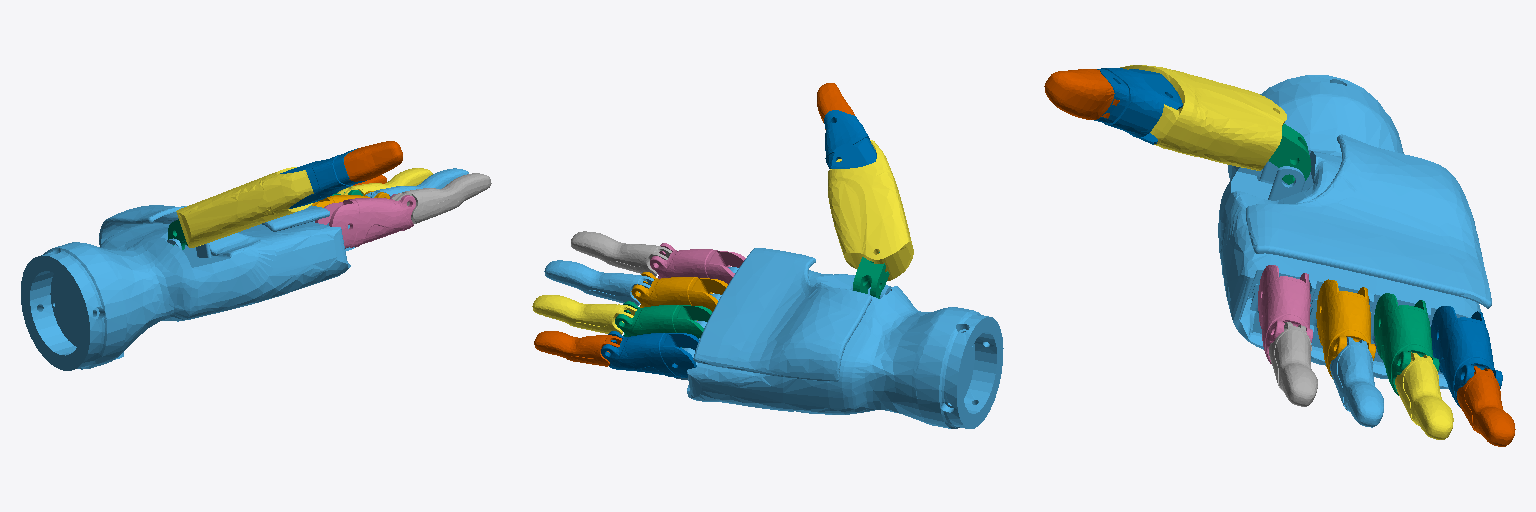
URDF robot description (inspire_hand_right):
<robot name="inspire_hand_right">
  <link name="base" />
  <joint name="base_joint" type="fixed">
    <parent link="base" />
    <child link="hand_base_link" />
    
    
    
    <origin xyz="-0.05 0.01 0" rpy="3.13841 1.26841 -1.47159" />
  </joint>
  <link name="hand_base_link">
    <parent link="base" />
    <inertial>
      <origin xyz="-0.0025264 -0.066047 0.0019598" rpy="0 0 0" />
      <mass value="0.14143" />
      <inertia ixx="0.00012281" ixy="2.1711E-06" ixz="1.7709E-06" iyy="8.3832E-05" iyz="-1.6551E-06" izz="7.6663E-05" />
    </inertial>
    <visual>
      <origin xyz="0 0 0" rpy="0 0 0" />
      <geometry>
        <mesh filename="meshes/visual/right_base_link.obj" />
      </geometry>
    </visual>
    <collision>
      <origin xyz="0 -0.0136 0" rpy="1.57079 0 0" />
      <geometry>
        <cylinder length="0.0278" radius="0.028" />
      </geometry>
    </collision>
    <collision>
      <origin xyz="-0.0032 -0.038 0" rpy="0 0 0" />
      <geometry>
        <box size="0.0391 0.0202 0.0574" />
      </geometry>
    </collision>
    <collision>
      <origin xyz="-0.0032 -0.0682 0" rpy="0 0 0" />
      <geometry>
        <box size="0.0391 0.04 0.0814" />
      </geometry>
    </collision>
    <collision>
      <origin xyz="0 -0.1081 0" rpy="0 0 0" />
      <geometry>
        <box size="0.0322 0.04 0.0814" />
      </geometry>
    </collision>
    <collision>
      <origin xyz="-0.0016 -0.1340 0.0309" rpy="0 0 0" />
      <geometry>
        <box size="0.0125 0.0111 0.0089" />
      </geometry>
    </collision>
    <collision>
      <origin xyz="-0.0016 -0.1340 0.0118" rpy="0 0 0" />
      <geometry>
        <box size="0.0125 0.0111 0.0089" />
      </geometry>
    </collision>
    <collision>
      <origin xyz="-0.0016 -0.1340 -0.0070" rpy="0 0 0" />
      <geometry>
        <box size="0.0125 0.0111 0.0089" />
      </geometry>
    </collision>
    <collision>
      <origin xyz="-0.0016 -0.1340 -0.0262" rpy="0 0 0" />
      <geometry>
        <box size="0.0125 0.0111 0.0089" />
      </geometry>
    </collision>
  </link>
  <link name="thumb_proximal_base">
    <inertial>
      <origin xyz="-0.0048064 0.0009382 -0.00757" rpy="0 0 0" />
      <mass value="0.0018869" />
      <inertia ixx="5.816E-08" ixy="1.4539E-08" ixz="4.491E-09" iyy="7.9161E-08" iyz="-1.8727E-09" izz="6.7433E-08" />
    </inertial>
    <visual>
      <origin xyz="0 0 0" rpy="0 0 0" />
      <geometry>
        <mesh filename="meshes/visual/right_thumb_proximal_base.obj" />
      </geometry>
    </visual>
    <collision>
      <origin xyz="0 0 0" rpy="0 0 0" />
      <geometry>
        <mesh filename="meshes/collision/right_thumb_proximal_base.obj" />
      </geometry>
    </collision>
  </link>
  <joint name="thumb_proximal_yaw_joint" type="revolute">
    <origin xyz="-0.01696 -0.0691 -0.02045" rpy="1.5708 -1.5708 0" />
    <parent link="hand_base_link" />
    <child link="thumb_proximal_base" />
    <axis xyz="0 0 -1" />
    <limit lower="0.0" upper="1.308" effort="1" velocity="0.5" />
  </joint>
  <link name="thumb_proximal">
    <inertial>
      <origin xyz="0.021932 0.012785 -0.0080386" rpy="0 0 0" />
      <mass value="0.0066075" />
      <inertia ixx="1.5686E-06" ixy="-7.8296E-07" ixz="8.9143E-10" iyy="1.7353E-06" iyz="-1.0191E-09" izz="2.786E-06" />
    </inertial>
    <visual>
      <origin xyz="0 0 0" rpy="0 0 0" />
      <geometry>
        <mesh filename="meshes/visual/right_thumb_proximal.obj" />
      </geometry>
    </visual>
    <collision>
      <origin xyz="0 0 0" rpy="0 0 0" />
      <geometry>
        <mesh filename="meshes/collision/right_thumb_proximal.obj" />
      </geometry>
    </collision>
  </link>
  <joint name="thumb_proximal_pitch_joint" type="revolute">
    <origin xyz="-0.0088099 0.010892 -0.00925" rpy="1.5708 0 2.8587" />
    <parent link="thumb_proximal_base" />
    <child link="thumb_proximal" />
    <axis xyz="0 0 1" />
    <limit lower="0" upper="0.6" effort="1" velocity="0.5" />
  </joint>
  <link name="thumb_intermediate">
    <inertial>
      <origin xyz="0.0095544 -0.0016282 -0.0071997" rpy="0 0 0" />
      <mass value="0.0037847" />
      <inertia ixx="3.6981E-07" ixy="-9.8581E-08" ixz="-4.7469E-12" iyy="3.2394E-07" iyz="1.0939E-12" izz="4.6531E-07" />
    </inertial>
    <visual>
      <origin xyz="0 0 0" rpy="0 0 0" />
      <geometry>
        <mesh filename="meshes/visual/right_thumb_intermediate.obj" />
      </geometry>
    </visual>
    <collision>
      <origin xyz="0 0 0" rpy="0 0 0" />
      <geometry>
        <mesh filename="meshes/collision/right_thumb_intermediate.obj" />
      </geometry>
    </collision>
  </link>
  <joint name="thumb_intermediate_joint" type="revolute">
    <origin xyz="0.04407 0.034553 -0.0008" rpy="0 0 0" />
    <parent link="thumb_proximal" />
    <child link="thumb_intermediate" />
    <axis xyz="0 0 1" />
    <limit lower="0" upper="0.8" effort="1" velocity="0.5" />
    <mimic joint="thumb_proximal_pitch_joint" multiplier="1.334" offset="0" />
  </joint>
  <link name="thumb_distal">
    <inertial>
      <origin xyz="0.0092888 0.0049529 -0.0060033" rpy="0 0 0" />
      <mass value="0.0033441" />
      <inertia ixx="1.3632E-07" ixy="-5.6788E-08" ixz="-9.2764E-11" iyy="1.4052E-07" iyz="-1.2283E-10" izz="2.0026E-07" />
    </inertial>
    <visual>
      <origin xyz="0 0 0" rpy="0 0 0" />
      <geometry>
        <mesh filename="meshes/visual/right_thumb_distal.obj" />
      </geometry>
    </visual>
    <collision>
      <origin xyz="0 0 0" rpy="0 0 0" />
      <geometry>
        <mesh filename="meshes/collision/right_thumb_distal.obj" />
      </geometry>
    </collision>
  </link>
  <joint name="thumb_distal_joint" type="revolute">
    <origin xyz="0.020248 0.010156 -0.0012" rpy="0 0 0" />
    <parent link="thumb_intermediate" />
    <child link="thumb_distal" />
    <axis xyz="0 0 1" />
    <limit lower="0" upper="0.4" effort="1" velocity="0.5" />
    <mimic joint="thumb_proximal_pitch_joint" multiplier="0.667" offset="0" />
  </joint>
  <link name="index_proximal">
    <inertial>
      <origin xyz="0.0012259 0.011942 -0.0060001" rpy="0 0 0" />
      <mass value="0.0042403" />
      <inertia ixx="6.6232E-07" ixy="-1.5775E-08" ixz="1.8515E-12" iyy="2.1146E-07" iyz="-5.0828E-12" izz="6.9398E-07" />
    </inertial>
    <visual>
      <origin xyz="0 0 0" rpy="0 0 0" />
      <geometry>
        <mesh filename="meshes/visual/right_index_proximal.obj" />
      </geometry>
    </visual>
    <collision>
      <origin xyz="0 0 0" rpy="0 0 0" />
      <geometry>
        <mesh filename="meshes/collision/right_index_proximal.obj" />
      </geometry>
    </collision>
  </link>
  <joint name="index_proximal_joint" type="revolute">
    <origin xyz="0.00028533 -0.13653 -0.032268" rpy="-3.1067 0 0" />
    <parent link="hand_base_link" />
    <child link="index_proximal" />
    <axis xyz="0 0 1" />
    <limit lower="0" upper="1.47" effort="1" velocity="0.5" />
  </joint>
  <link name="index_intermediate">
    <inertial>
      <origin xyz="0.0019697 0.019589 -0.005" rpy="0 0 0" />
      <mass value="0.0045683" />
      <inertia ixx="7.6111E-07" ixy="8.7637E-08" ixz="-3.7751E-13" iyy="9.6076E-08" iyz="9.9444E-13" izz="7.8179E-07" />
    </inertial>
    <visual>
      <origin xyz="0 0 0" rpy="0 0 0" />
      <geometry>
        <mesh filename="meshes/visual/right_index_intermediate.obj" />
      </geometry>
    </visual>
    <collision>
      <origin xyz="0 0 0" rpy="0 0 0" />
      <geometry>
        <mesh filename="meshes/collision/right_index_intermediate.obj" />
      </geometry>
    </collision>
  </link>
  <joint name="index_intermediate_joint" type="revolute">
    <origin xyz="-0.0026138 0.032026 -0.001" rpy="0 0 0" />
    <parent link="index_proximal" />
    <child link="index_intermediate" />
    <axis xyz="0 0 1" />
    <limit lower="-0.04545" upper="1.56" effort="1" velocity="0.5" />
    <mimic joint="index_proximal_joint" multiplier="1.06399" offset="-0.04545" />
  </joint>
  <link name="middle_proximal">
    <inertial>
      <origin xyz="0.001297 0.011934 -0.0060001" rpy="0 0 0" />
      <mass value="0.0042403" />
      <inertia ixx="6.6211E-07" ixy="-1.8461E-08" ixz="1.8002E-12" iyy="2.1167E-07" iyz="-6.6808E-12" izz="6.9397E-07" />
    </inertial>
    <visual>
      <origin xyz="0 0 0" rpy="0 0 0" />
      <geometry>
        <mesh filename="meshes/visual/right_index_proximal.obj" />
      </geometry>
    </visual>
    <collision>
      <origin xyz="0 0 0" rpy="0 0 0" />
      <geometry>
        <mesh filename="meshes/collision/right_index_proximal.obj" />
      </geometry>
    </collision>
  </link>
  <joint name="middle_proximal_joint" type="revolute">
    <origin xyz="0.00028533 -0.1371 -0.01295" rpy="-3.1416 0 0" />
    <parent link="hand_base_link" />
    <child link="middle_proximal" />
    <axis xyz="0 0 1" />
    <limit lower="0" upper="1.47" effort="1" velocity="0.5" />
  </joint>
  <link name="middle_intermediate">
    <inertial>
      <origin xyz="0.001921 0.020796 -0.005" rpy="0 0 0" />
      <mass value="0.0050396" />
      <inertia ixx="9.5822E-07" ixy="1.1425E-07" ixz="-2.4791E-12" iyy="1.0646E-07" iyz="5.9173E-12" izz="9.8384E-07" />
    </inertial>
    <visual>
      <origin xyz="0 0 0" rpy="0 0 0" />
      <geometry>
        <mesh filename="meshes/visual/right_middle_intermediate.obj" />
      </geometry>
    </visual>
    <collision>
      <origin xyz="0 0 0" rpy="0 0 0" />
      <geometry>
        <mesh filename="meshes/collision/right_middle_intermediate.obj" />
      </geometry>
    </collision>
  </link>
  <joint name="middle_intermediate_joint" type="revolute">
    <origin xyz="-0.0024229 0.032041 -0.001" rpy="0 0 0" />
    <parent link="middle_proximal" />
    <child link="middle_intermediate" />
    <axis xyz="0 0 1" />
    <limit lower="-0.04545" upper="1.56" effort="1" velocity="0.5" />
    <mimic joint="middle_proximal_joint" multiplier="1.06399" offset="-0.04545" />
  </joint>
  <link name="ring_proximal">
    <inertial>
      <origin xyz="0.001297 0.011934 -0.0060002" rpy="0 0 0" />
      <mass value="0.0042403" />
      <inertia ixx="6.6211E-07" ixy="-1.8461E-08" ixz="1.5793E-12" iyy="2.1167E-07" iyz="-6.6868E-12" izz="6.9397E-07" />
    </inertial>
    <visual>
      <origin xyz="0 0 0" rpy="0 0 0" />
      <geometry>
        <mesh filename="meshes/visual/right_index_proximal.obj" />
      </geometry>
    </visual>
    <collision>
      <origin xyz="0 0 0" rpy="0 0 0" />
      <geometry>
        <mesh filename="meshes/collision/right_index_proximal.obj" />
      </geometry>
    </collision>
  </link>
  <joint name="ring_proximal_joint" type="revolute">
    <origin xyz="0.00028533 -0.13691 0.0062872" rpy="3.0892 0 0" />
    <parent link="hand_base_link" />
    <child link="ring_proximal" />
    <axis xyz="0 0 1" />
    <limit lower="0" upper="1.47" effort="1" velocity="0.5" />
  </joint>
  <link name="ring_intermediate">
    <inertial>
      <origin xyz="0.0021753 0.019567 -0.005" rpy="0 0 0" />
      <mass value="0.0045683" />
      <inertia ixx="7.6286E-07" ixy="8.0635E-08" ixz="-6.1562E-13" iyy="9.431E-08" iyz="5.8619E-13" izz="7.8177E-07" />
    </inertial>
    <visual>
      <origin xyz="0 0 0" rpy="0 0 0" />
      <geometry>
        <mesh filename="meshes/visual/right_index_intermediate.obj" />
      </geometry>
    </visual>
    <collision>
      <origin xyz="0 0 0" rpy="0 0 0" />
      <geometry>
        <mesh filename="meshes/collision/right_index_intermediate.obj" />
      </geometry>
    </collision>
  </link>
  <joint name="ring_intermediate_joint" type="revolute">
    <origin xyz="-0.0024229 0.032041 -0.001" rpy="0 0 0" />
    <parent link="ring_proximal" />
    <child link="ring_intermediate" />
    <axis xyz="0 0 1" />
    <limit lower="-0.04545" upper="1.56" effort="1" velocity="0.5" />
    <mimic joint="ring_proximal_joint" multiplier="1.06399" offset="-0.04545" />
  </joint>
  <link name="pinky_proximal">
    <inertial>
      <origin xyz="0.001297 0.011934 -0.0060001" rpy="0 0 0" />
      <mass value="0.0042403" />
      <inertia ixx="6.6211E-07" ixy="-1.8461E-08" ixz="1.6907E-12" iyy="2.1167E-07" iyz="-6.9334E-12" izz="6.9397E-07" />
    </inertial>
    <visual>
      <origin xyz="0 0 0" rpy="0 0 0" />
      <geometry>
        <mesh filename="meshes/visual/right_index_proximal.obj" />
      </geometry>
    </visual>
    <collision>
      <origin xyz="0 0 0" rpy="0 0 0" />
      <geometry>
        <mesh filename="meshes/collision/right_index_proximal.obj" />
      </geometry>
    </collision>
  </link>
  <joint name="pinky_proximal_joint" type="revolute">
    <origin xyz="0.00028533 -0.13571 0.025488" rpy="3.0369 0 0" />
    <parent link="hand_base_link" />
    <child link="pinky_proximal" />
    <axis xyz="0 0 1" />
    <limit lower="0" upper="1.47" effort="1" velocity="0.5" />
  </joint>
  <link name="pinky_intermediate">
    <inertial>
      <origin xyz="0.0024748 0.016203 -0.0050031" rpy="0 0 0" />
      <mass value="0.0035996" />
      <inertia ixx="4.3913E-07" ixy="4.1418E-08" ixz="3.7168E-11" iyy="7.0247E-08" iyz="5.8613E-11" izz="4.4867E-07" />
    </inertial>
    <visual>
      <origin xyz="0 0 0" rpy="0 0 0" />
      <geometry>
        <mesh filename="meshes/visual/right_pinky_intermediate.obj" />
      </geometry>
    </visual>
    <collision>
      <origin xyz="0 0 0" rpy="0 0 0" />
      <geometry>
        <mesh filename="meshes/collision/right_pinky_intermediate.obj" />
      </geometry>
    </collision>
  </link>
  <joint name="pinky_intermediate_joint" type="revolute">
    <origin xyz="-0.0024229 0.032041 -0.001" rpy="0 0 0" />
    <parent link="pinky_proximal" />
    <child link="pinky_intermediate" />
    <axis xyz="0 0 1" />
    <limit lower="-0.04545" upper="1.56" effort="1" velocity="0.5" />
    <mimic joint="pinky_proximal_joint" multiplier="1.06399" offset="-0.04545" />
  </joint>

  <link name="thumb_tip" />
  <joint name="thumb_tip_joint" type="fixed">
    <origin xyz="0.0202 0.0140 -0.006" rpy="0 0 0" />
    <parent link="thumb_distal" />
    <child link="thumb_tip" />
  </joint>
  <link name="index_tip" />
  <joint name="index_tip_joint" type="fixed">
    <origin xyz="-0.0008 0.045 -0.005" rpy="0 0 0" />
    <parent link="index_intermediate" />
    <child link="index_tip" />
  </joint>
  <link name="middle_tip" />
  <joint name="middle_tip_joint" type="fixed">
    <origin xyz="-0.001 0.048 -0.005" rpy="0 0 0" />
    <parent link="middle_intermediate" />
    <child link="middle_tip" />
  </joint>
  <link name="ring_tip" />
  <joint name="ring_tip_joint" type="fixed">
    <origin xyz="-0.0008 0.045 -0.005" rpy="0 0 0" />
    <parent link="ring_intermediate" />
    <child link="ring_tip" />
  </joint>
  <link name="pinky_tip" />
  <joint name="pinky_tip_joint" type="fixed">
    <origin xyz="-0.0008 0.037 -0.005" rpy="0 0 0" />
    <parent link="pinky_intermediate" />
    <child link="pinky_tip" />
  </joint>
</robot>

--- Facts derived from the render (not from the file) ---
Views: 3 orthographic renders of the robot side by side, from view 1: azimuth 30°, elevation 25°; view 2: azimuth 150°, elevation 25°; view 3: azimuth 270°, elevation 25°.
Model inspire_hand_right with 19 links and 18 joints (12 revolute, 6 fixed), rooted at base, posed every joint at zero.
Links seen in each view (by area): view 1: hand_base_link, thumb_proximal, index_proximal, index_intermediate, thumb_distal, thumb_intermediate, ring_intermediate, middle_intermediate; view 2: hand_base_link, thumb_proximal, pinky_proximal, middle_intermediate, ring_proximal, thumb_intermediate, middle_proximal, index_proximal, ring_intermediate, index_intermediate, pinky_intermediate, thumb_proximal_base (+1 smaller); view 3: hand_base_link, thumb_proximal, thumb_intermediate, pinky_proximal, ring_proximal, middle_proximal, index_proximal, middle_intermediate, ring_intermediate, index_intermediate, pinky_intermediate, thumb_distal (+1 smaller).
Link boxes in pixels (box(x1,y1,x2,y2)): hand_base_link: box(21, 205, 354, 370); thumb_proximal: box(176, 167, 313, 247); index_proximal: box(315, 194, 415, 248); index_intermediate: box(391, 173, 491, 223); thumb_distal: box(344, 141, 402, 181); thumb_intermediate: box(280, 148, 366, 208); ring_intermediate: box(337, 168, 432, 195); middle_intermediate: box(365, 168, 468, 197); hand_base_link: box(676, 248, 1003, 428); thumb_proximal: box(828, 140, 913, 280); pinky_proximal: box(601, 331, 698, 377); middle_intermediate: box(544, 260, 653, 305); ring_proximal: box(615, 301, 711, 347); thumb_intermediate: box(824, 110, 876, 168); middle_proximal: box(631, 272, 727, 320); index_proximal: box(650, 243, 745, 284); ring_intermediate: box(532, 295, 636, 334); index_intermediate: box(571, 231, 671, 276); pinky_intermediate: box(534, 331, 621, 366); thumb_proximal_base: box(853, 252, 889, 298); hand_base_link: box(1218, 75, 1491, 388); thumb_proximal: box(1120, 65, 1286, 170); thumb_intermediate: box(1094, 68, 1182, 144); pinky_proximal: box(1431, 306, 1502, 407); ring_proximal: box(1374, 293, 1439, 395); middle_proximal: box(1316, 279, 1375, 378); index_proximal: box(1258, 265, 1312, 363); middle_intermediate: box(1330, 337, 1383, 427); ring_intermediate: box(1395, 352, 1453, 439); index_intermediate: box(1269, 322, 1317, 406); pinky_intermediate: box(1457, 366, 1515, 446); thumb_distal: box(1044, 69, 1119, 119).
Size in the robot's own frame: 0.22 by 0.1466 by 0.1119 metres.
Meshes: 9 distinct files referenced, 13 mesh visuals loaded (9 OBJ).
